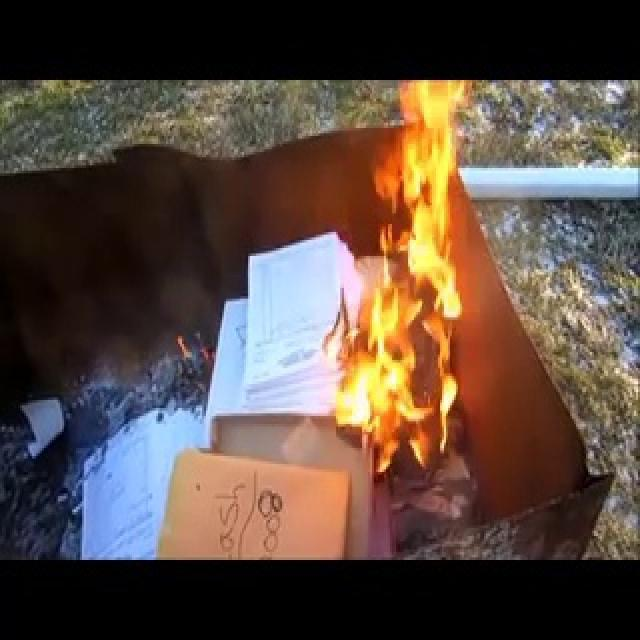fire: (317, 77, 463, 456)
